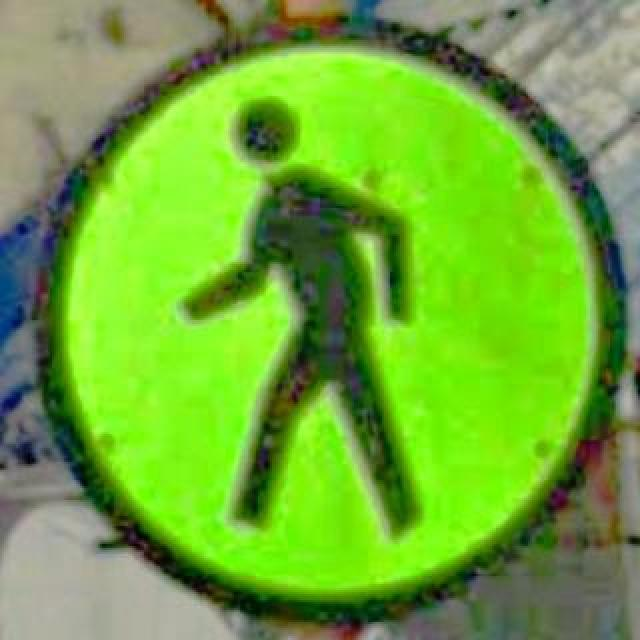pedestrian crossing: (30, 12, 628, 620)
